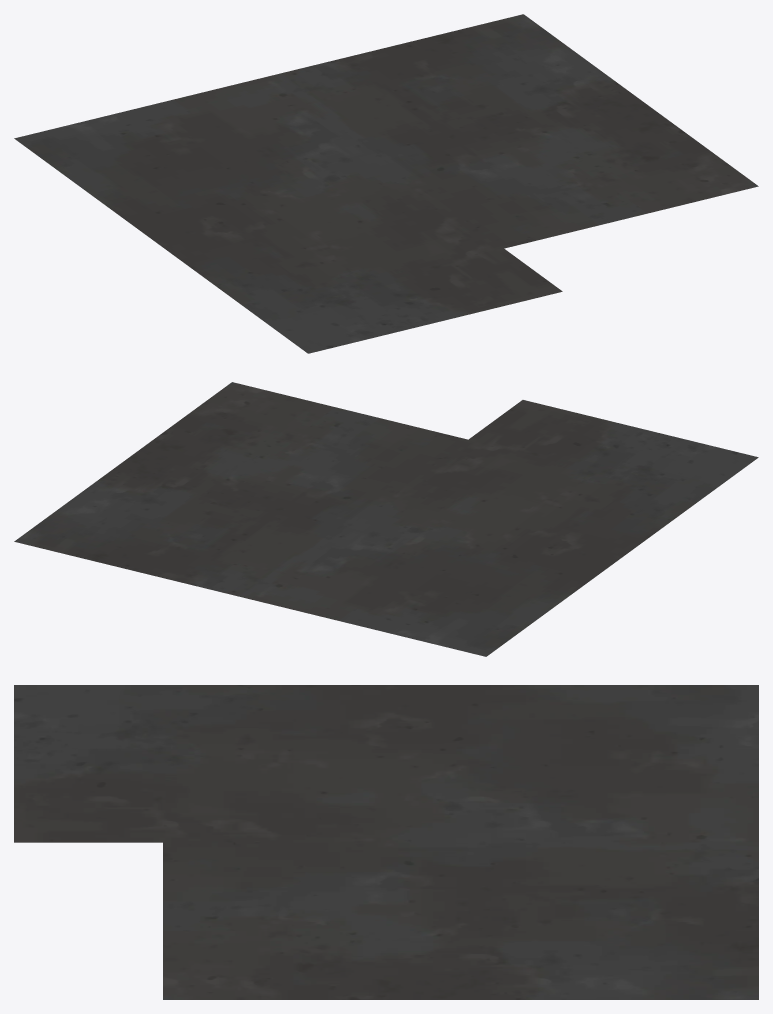
File: Roof_2x2_90Angle_L.glb
The picture shows the model from 3 angles, top to bottom: view 1: azimuth 30°, elevation 25°; view 2: azimuth 150°, elevation 25°; view 3: azimuth 270°, elevation 25°; orthographic projection. The views are drawn at different scales.
Parts seen in each view (by area): view 1: Roof_2x2_90Angle_L; view 2: Roof_2x2_90Angle_L; view 3: Roof_2x2_90Angle_L.
Boxes of the visible parts, x1,y1,x2,y2 form: Roof_2x2_90Angle_L: [14, 14, 758, 353]; Roof_2x2_90Angle_L: [14, 382, 758, 656]; Roof_2x2_90Angle_L: [14, 685, 758, 999].
Size of the model in its own units: 2 by 0 by 2.
Materials: 1 (1 with a texture image).
